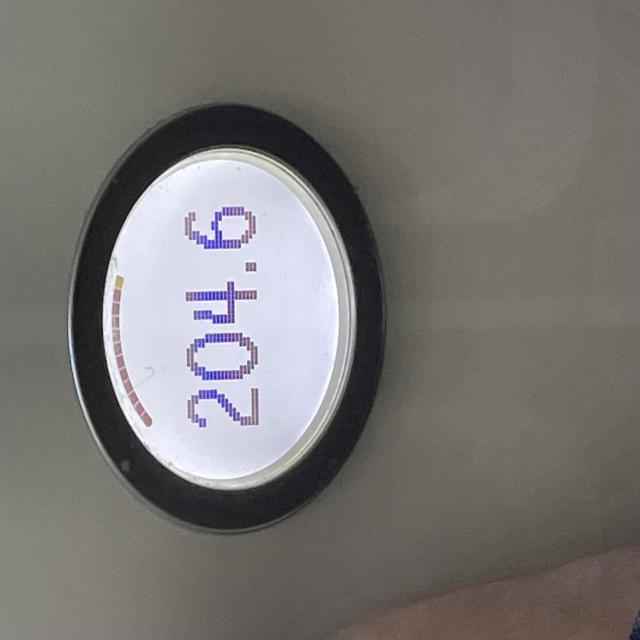ws: (67, 111, 385, 537)
